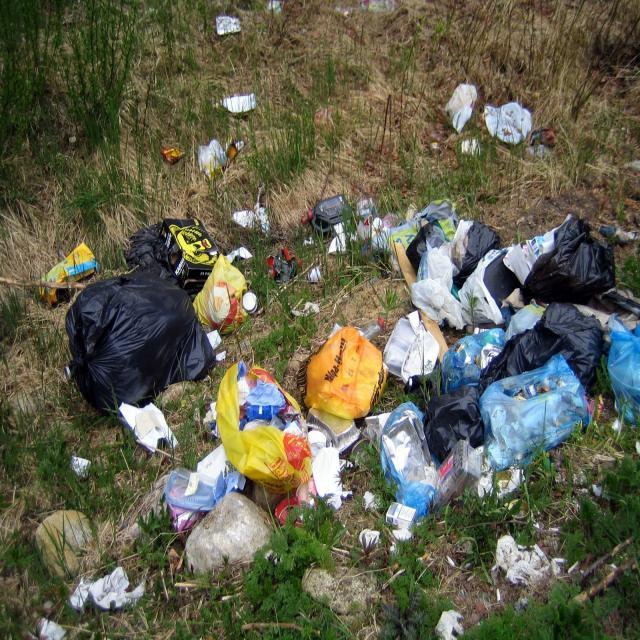plastic: (158, 195, 640, 540), (62, 268, 218, 418), (289, 182, 382, 268), (111, 202, 228, 263), (55, 548, 149, 622), (426, 68, 485, 143), (207, 85, 272, 118), (202, 10, 251, 41), (151, 140, 189, 169)
